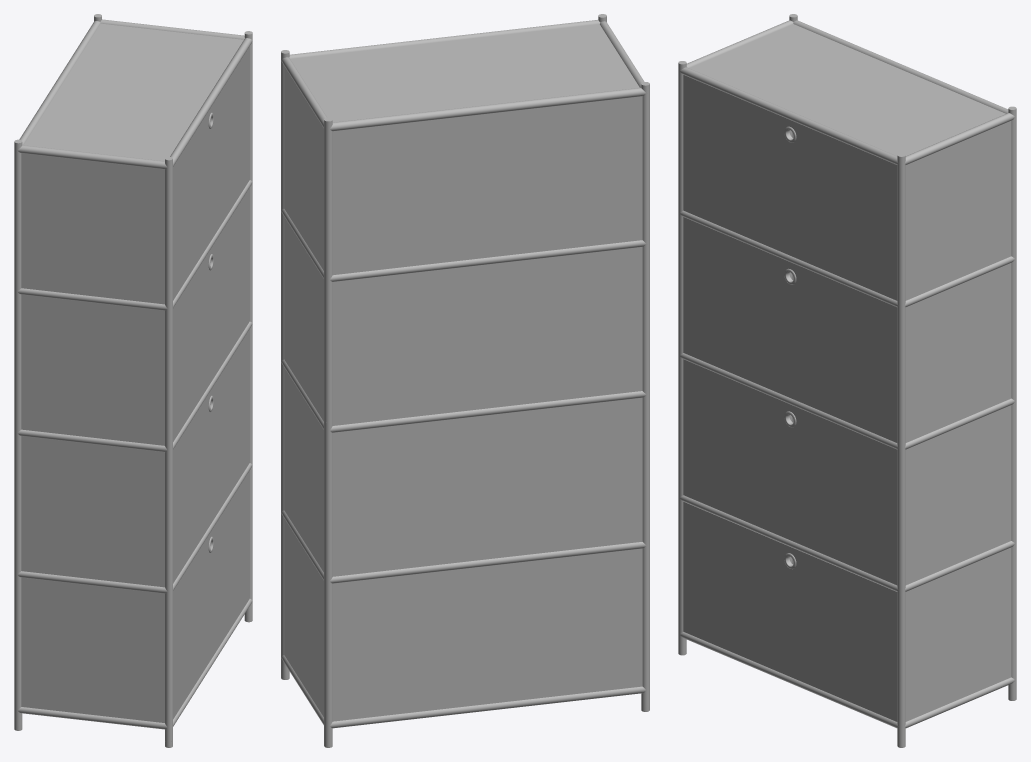
Rendered from cabinet.glb.
3 renders of one model, left to right at view 1: azimuth 30°, elevation 25°; view 2: azimuth 150°, elevation 25°; view 3: azimuth 270°, elevation 25°, orthographic. The views are drawn at different scales.
Visible parts, largest first — view 1: cabinet_frame_04, cabinet_wall_02, cabinet_wall_03, cabinet_wall_04, cabinet_wall_01, cabinet_door_02, cabinet_door_03, cabinet_door_04, cabinet_door_01, cabinet_frame_01, cabinet_frame_02, cabinet_frame_03; view 2: cabinet_wall_02, cabinet_wall_03, cabinet_wall_04, cabinet_wall_01, cabinet_frame_04, cabinet_frame_01, cabinet_frame_02, cabinet_frame_03; view 3: cabinet_door_02, cabinet_door_03, cabinet_door_04, cabinet_door_01, cabinet_frame_04, cabinet_wall_02, cabinet_wall_03, cabinet_wall_04, cabinet_wall_01, cabinet_frame_01, cabinet_frame_02, cabinet_frame_03.
Part boxes in pixels (x1=…): cabinet_frame_04: x1=14, y1=14, x2=252, y2=301; cabinet_wall_02: x1=21, y1=436, x2=164, y2=587; cabinet_wall_03: x1=21, y1=294, x2=164, y2=445; cabinet_wall_04: x1=21, y1=153, x2=164, y2=304; cabinet_wall_01: x1=21, y1=577, x2=164, y2=722; cabinet_door_02: x1=173, y1=329, x2=249, y2=583; cabinet_door_03: x1=173, y1=187, x2=249, y2=441; cabinet_door_04: x1=173, y1=46, x2=249, y2=300; cabinet_door_01: x1=173, y1=470, x2=249, y2=719; cabinet_frame_01: x1=14, y1=458, x2=252, y2=747; cabinet_frame_02: x1=14, y1=316, x2=252, y2=584; cabinet_frame_03: x1=14, y1=175, x2=252, y2=442; cabinet_wall_02: x1=284, y1=368, x2=642, y2=576; cabinet_wall_03: x1=284, y1=217, x2=642, y2=425; cabinet_wall_04: x1=284, y1=66, x2=642, y2=275; cabinet_wall_01: x1=284, y1=519, x2=642, y2=721; cabinet_frame_04: x1=281, y1=14, x2=649, y2=271; cabinet_frame_01: x1=281, y1=505, x2=649, y2=747; cabinet_frame_02: x1=281, y1=354, x2=649, y2=573; cabinet_frame_03: x1=281, y1=203, x2=649, y2=422; cabinet_door_02: x1=683, y1=359, x2=897, y2=585; cabinet_door_03: x1=683, y1=217, x2=897, y2=442; cabinet_door_04: x1=683, y1=75, x2=897, y2=300; cabinet_door_01: x1=683, y1=501, x2=897, y2=721; cabinet_frame_04: x1=678, y1=14, x2=1016, y2=298; cabinet_wall_02: x1=789, y1=405, x2=1011, y2=585; cabinet_wall_03: x1=789, y1=263, x2=1011, y2=442; cabinet_wall_04: x1=789, y1=121, x2=1011, y2=300; cabinet_wall_01: x1=789, y1=547, x2=1011, y2=721; cabinet_frame_01: x1=678, y1=490, x2=1016, y2=747; cabinet_frame_02: x1=678, y1=347, x2=1016, y2=583; cabinet_frame_03: x1=678, y1=205, x2=1016, y2=441.
Bounding box in the file's own units: 0.8185 × 1.58 × 0.8185.
Materials: 12 (12 with a texture image).
